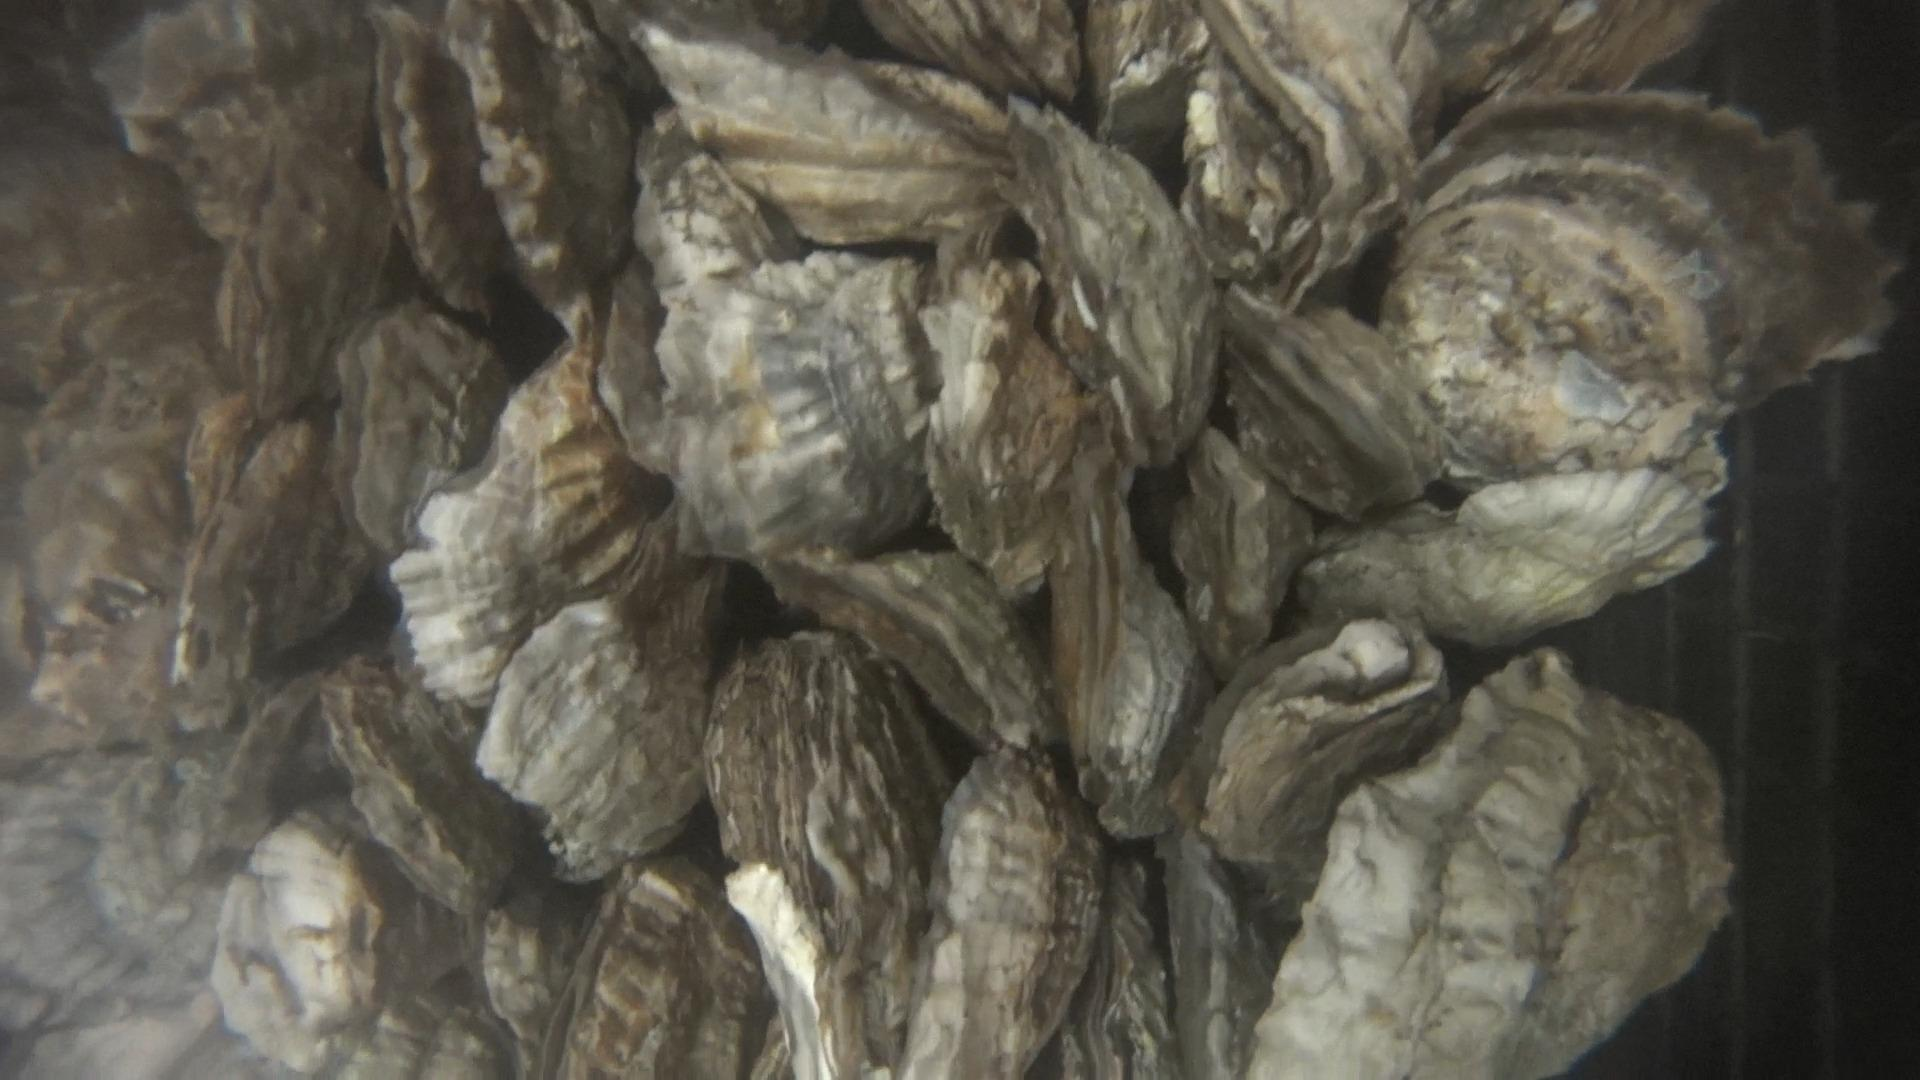3: (746, 551, 1047, 748), (196, 132, 397, 418), (527, 856, 775, 1080), (1054, 435, 1188, 839), (338, 302, 512, 563), (1175, 434, 1308, 657), (1064, 860, 1168, 1080), (851, 638, 934, 887)
Oyster- Indeterminate: (1247, 654, 1734, 1080), (1389, 94, 1890, 483), (603, 0, 1007, 245), (476, 487, 713, 885), (389, 344, 633, 705), (657, 255, 938, 554), (1180, 0, 1416, 302), (1307, 469, 1706, 644), (913, 748, 1108, 1080), (211, 816, 450, 1080), (922, 248, 1076, 597), (1403, 0, 1750, 120), (847, 0, 1083, 103)
Oyster-Closed: (703, 640, 924, 1080), (1002, 94, 1222, 467), (1205, 620, 1447, 953), (319, 622, 520, 918), (1216, 291, 1443, 520), (167, 422, 313, 728)
